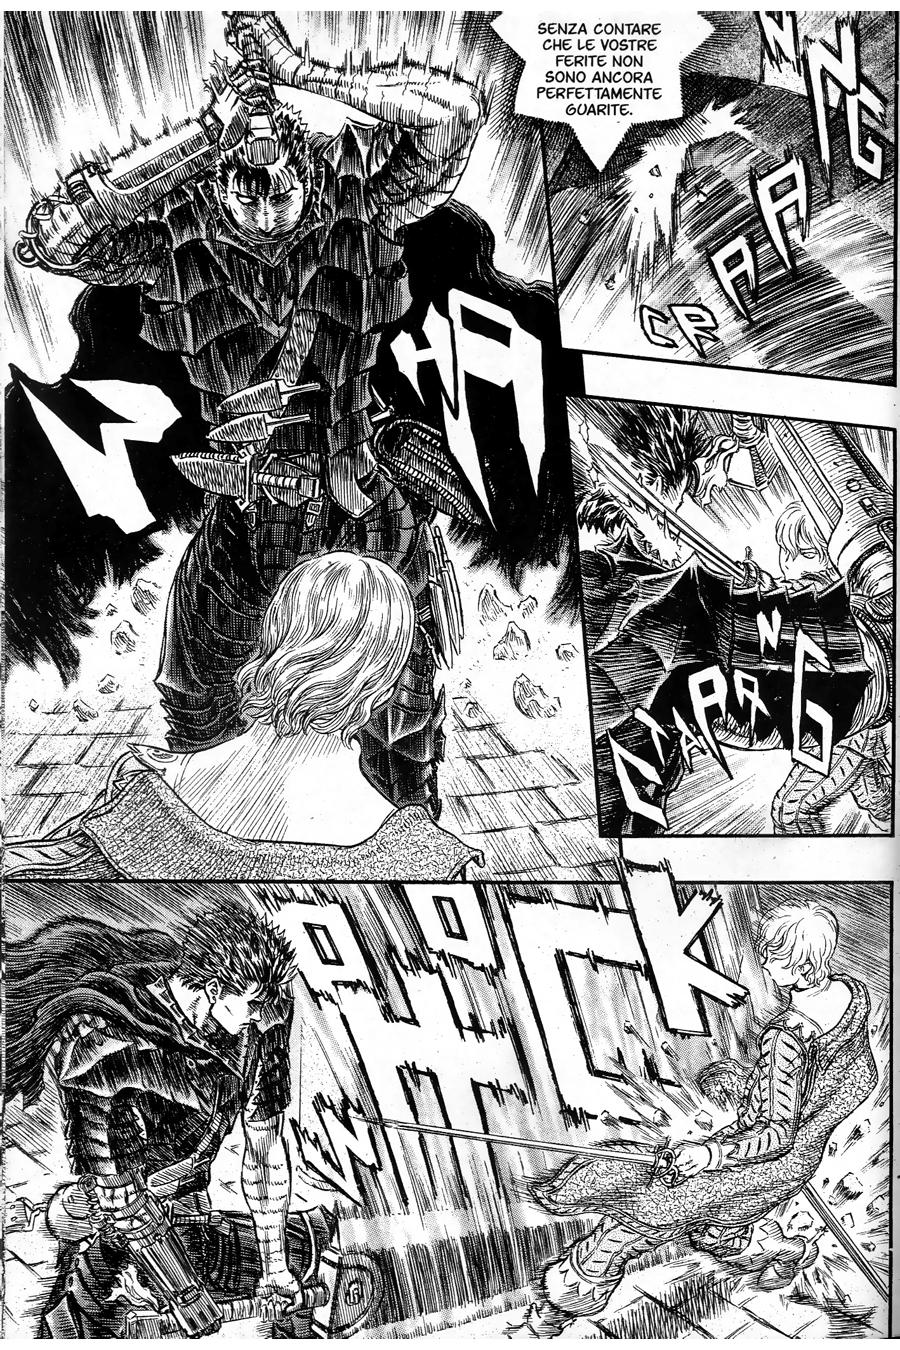Baloon: (489, 9, 716, 175)
Vignetta: (4, 9, 595, 883), (4, 881, 900, 1339), (562, 395, 900, 838), (546, 9, 900, 388)
